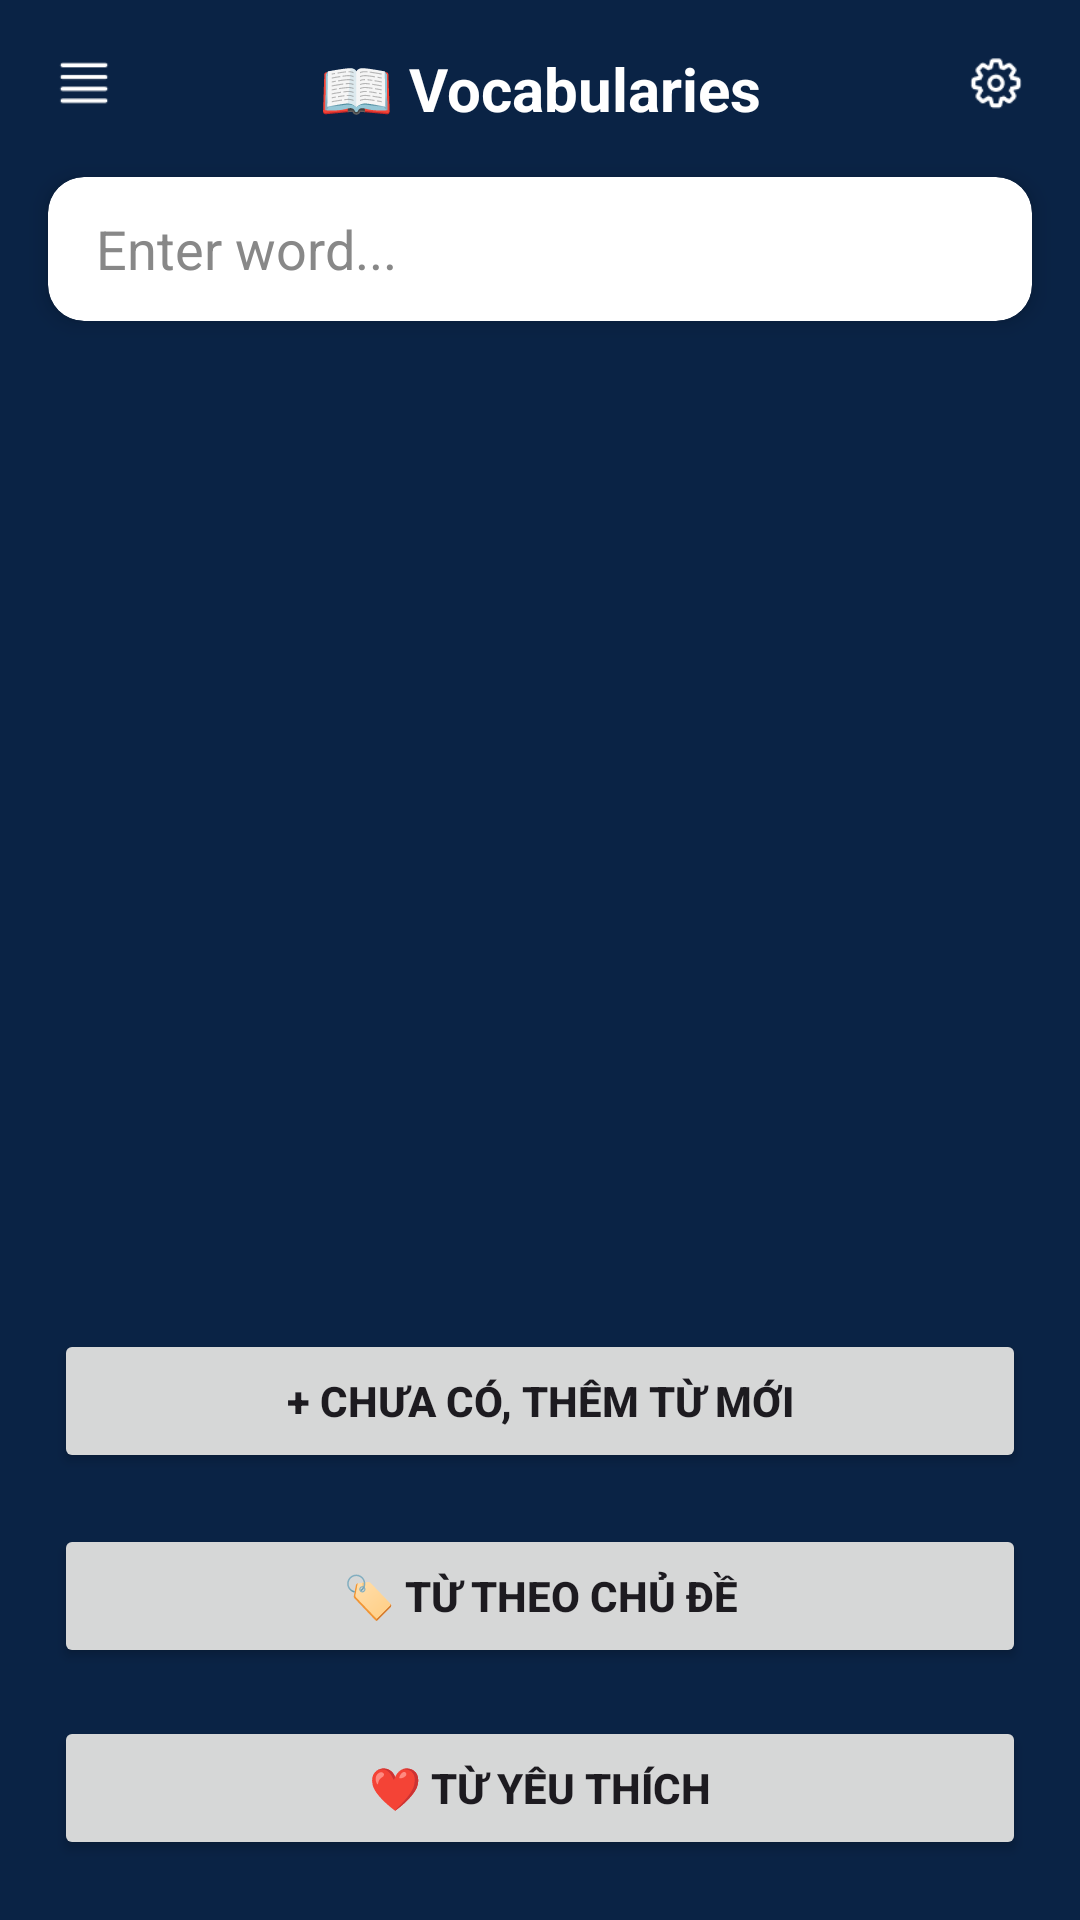

Locate icon controls on the screen. Image size 1080 × 1920, boxes as {"left": x1, "top": y1, "right": x2, "bottom": y2}.
menu: {"left": 60, "top": 62, "right": 108, "bottom": 104}
setting: {"left": 971, "top": 58, "right": 1021, "bottom": 109}
